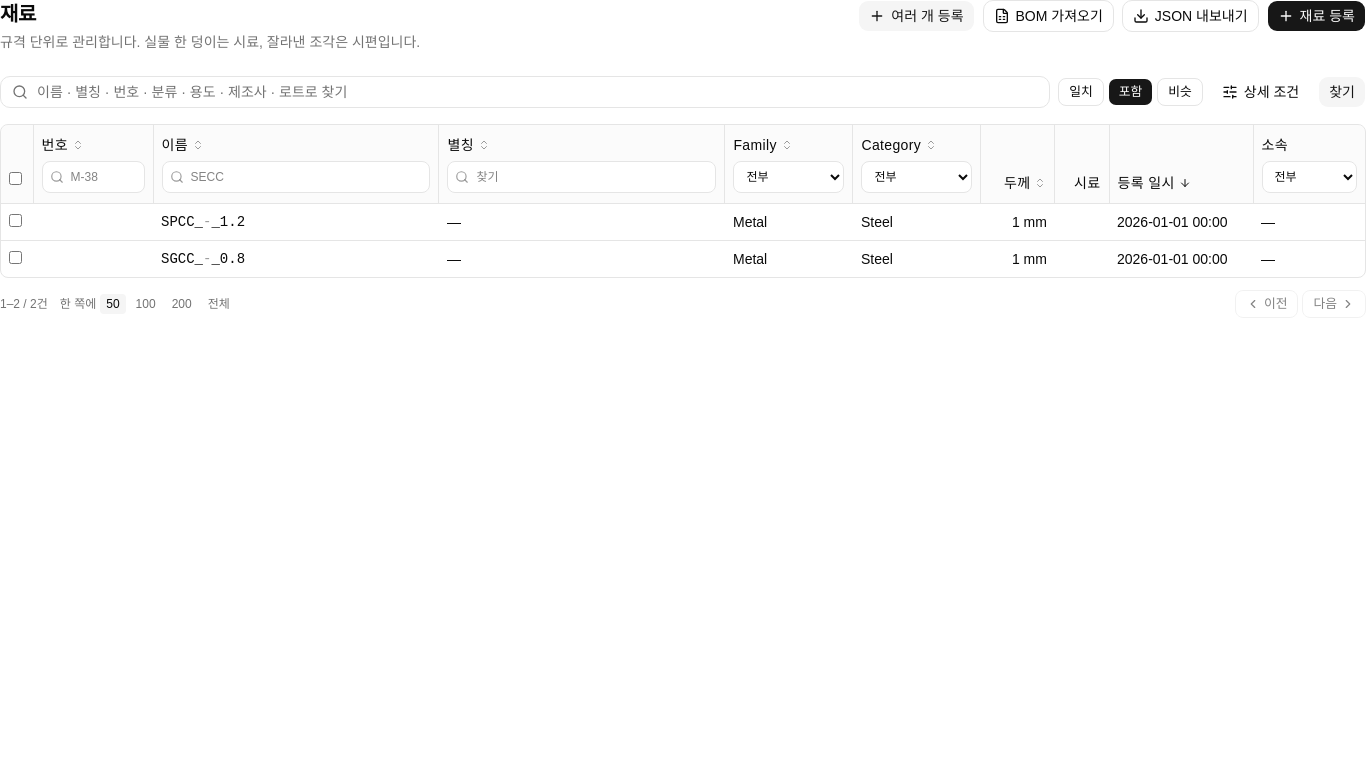
Scenario: 일괄 삭제 › 시험 칸은 아래까지를 켜야 뜬다
Expected: the link "SPCC_-_1.2" is shown, x1=161 y1=214 x2=245 y2=230
Click the checkbox named "전부 선택" at (16, 178), box x1=9 y1=172 x2=22 y2=185
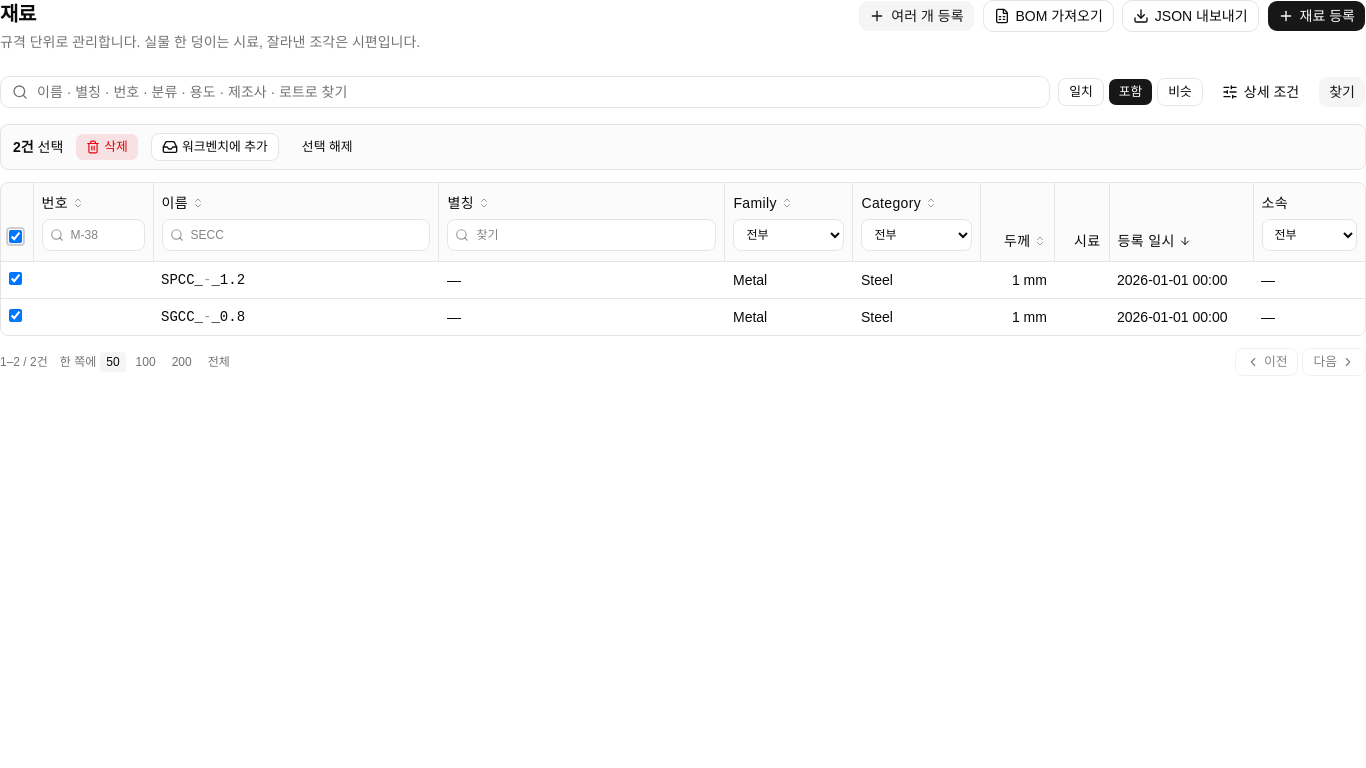
Click the button "삭제" at (107, 147), box x1=75 y1=133 x2=139 y2=161
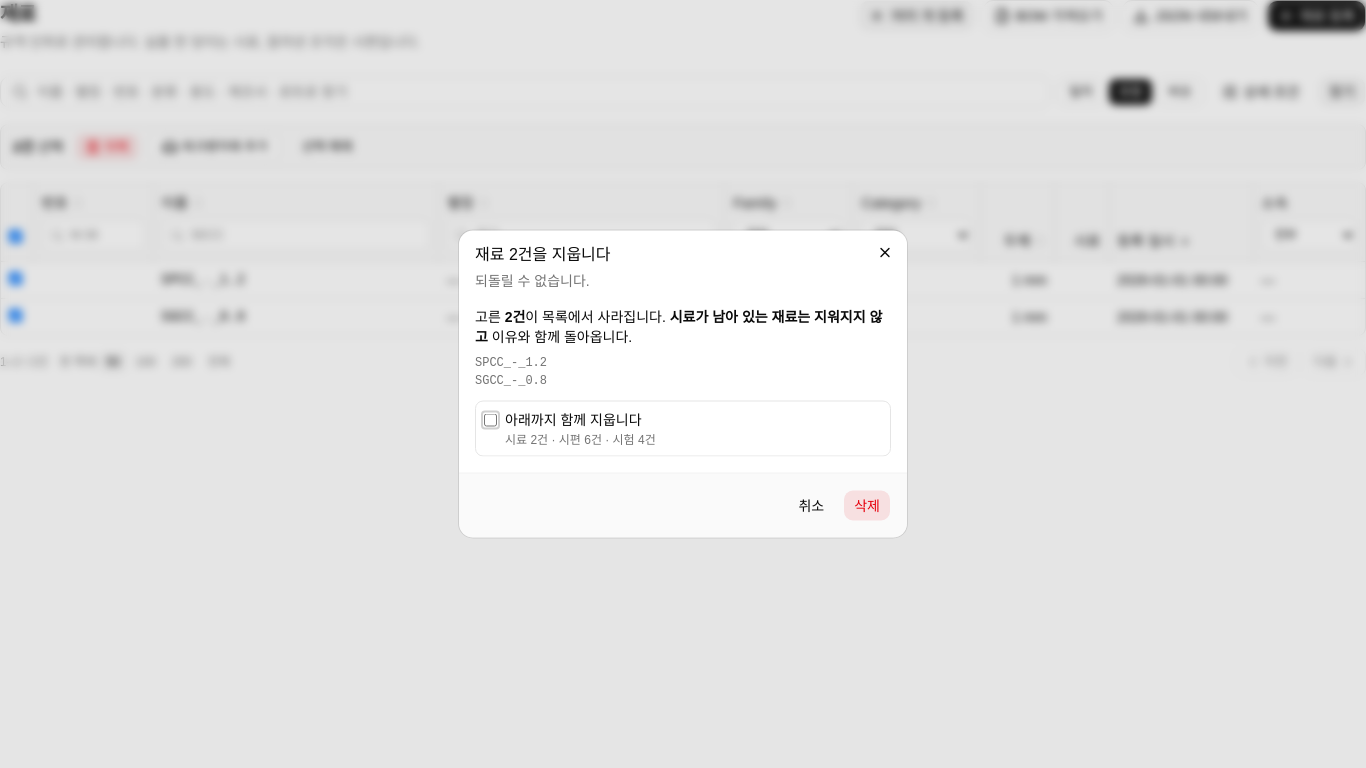
Expected: the checkbox labelled "시험 4건도 함께" is not shown
Now the text "시료 2건 · 시편 6건 · 시험 4건" is shown, box x1=505 y1=432 x2=656 y2=448
Click the checkbox labelled "아래까지 함께 지웁니다 시료 2건 · 시편 6건 · 시험 4건" at (490, 420), box x1=484 y1=414 x2=497 y2=426
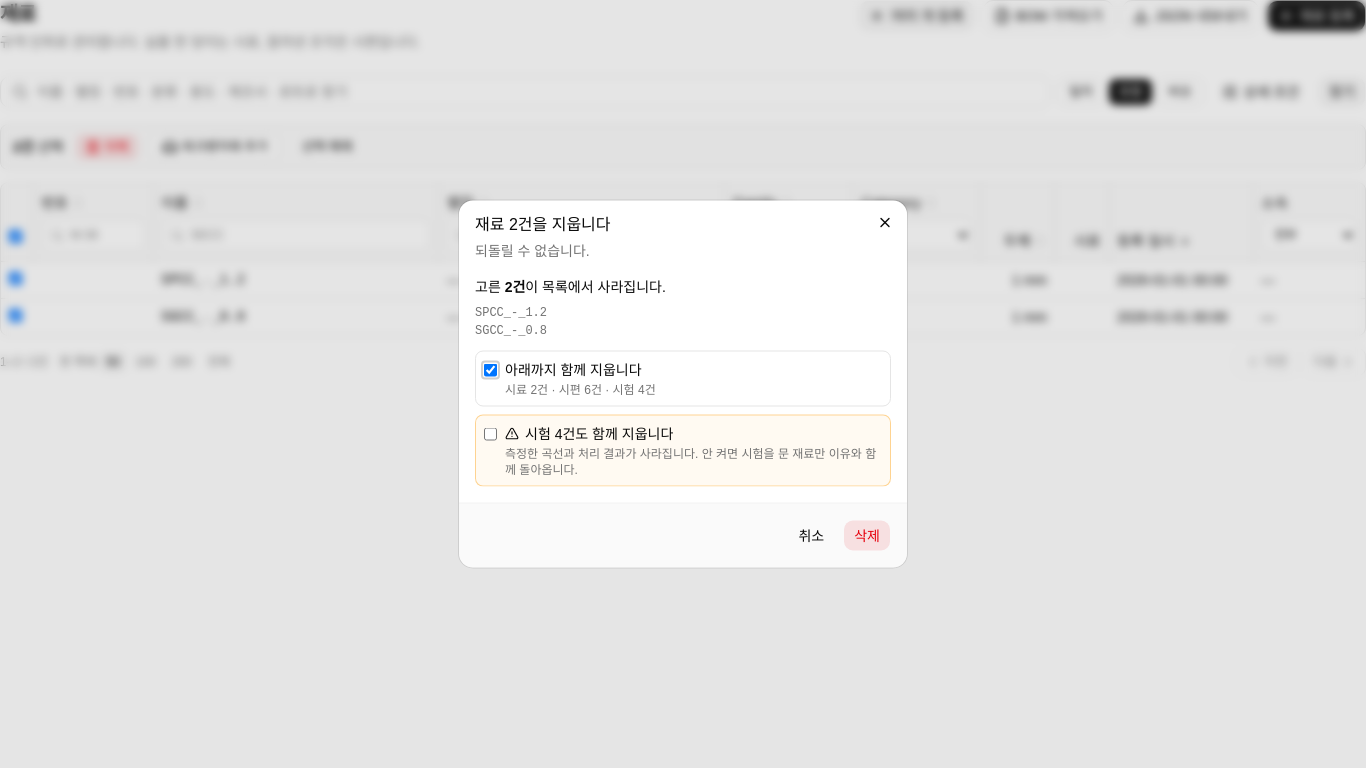
Now the checkbox labelled "시험 4건도 함께" is shown, box x1=484 y1=428 x2=497 y2=440
